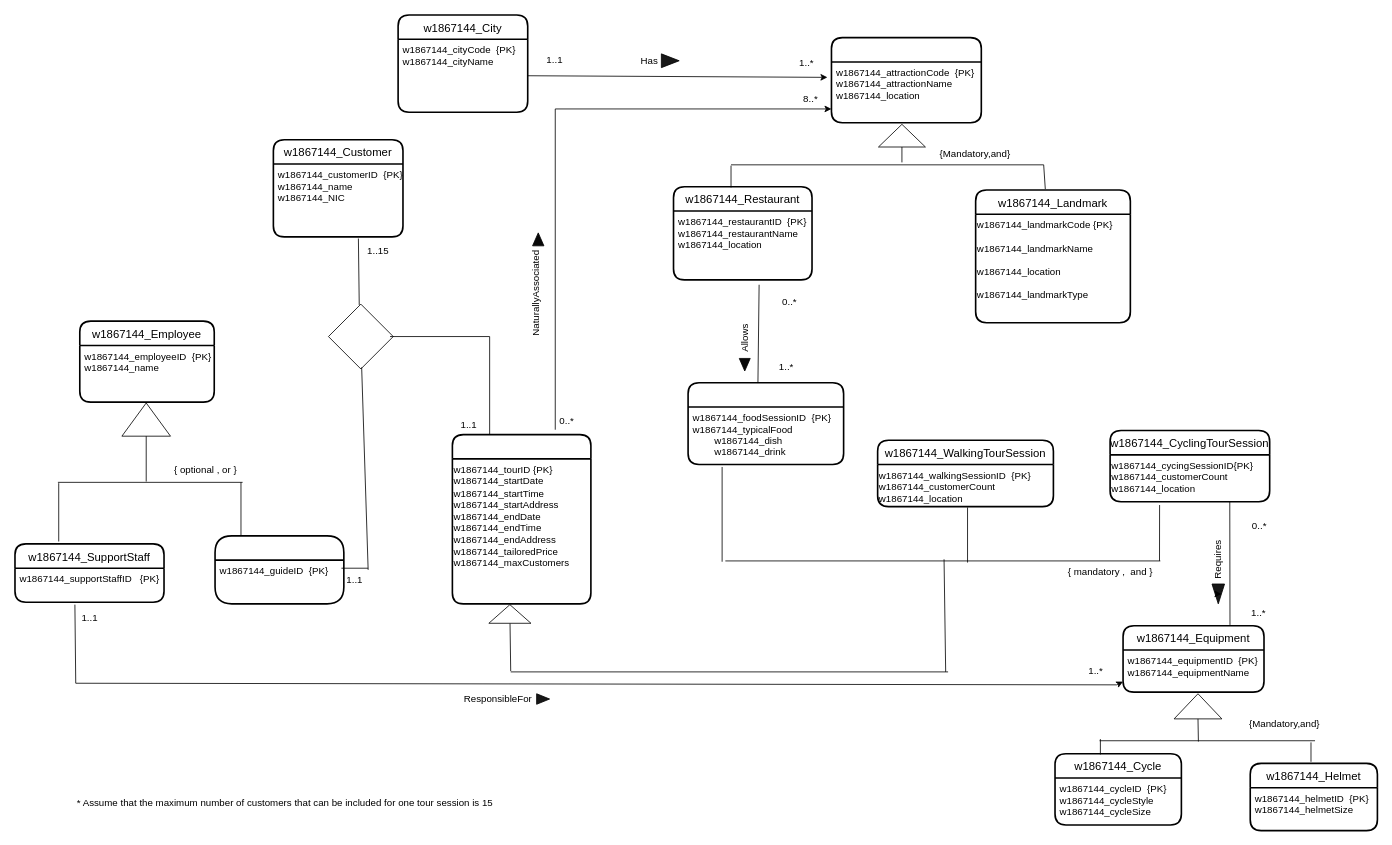
Image size: 1392x845. Some labels were removed from this diagram. Each missing label, with the box of its shape:
Arrange: (328, 303, 393, 369)
w11867144_Attraction: (830, 36, 982, 123)
w1867144_FoodTourSession: (687, 382, 844, 465)
w1867144_TourGuide: (214, 535, 344, 604)
w1867144_TourSession: (451, 433, 591, 604)
